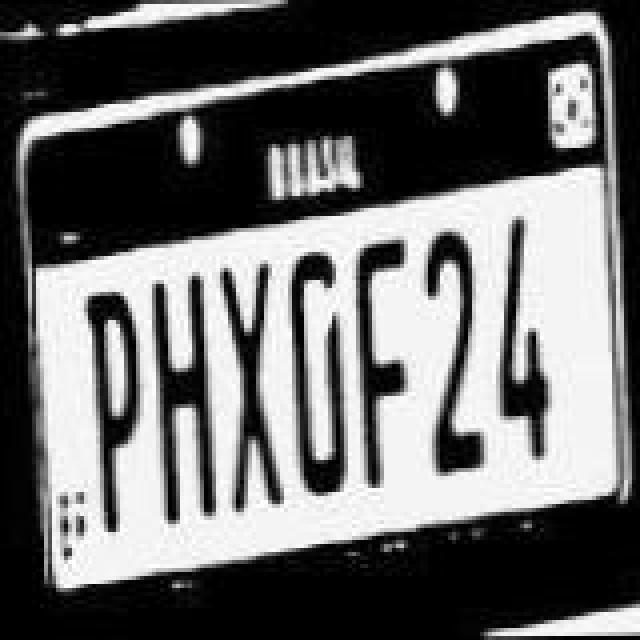2: (418, 222, 486, 478)
4: (488, 220, 560, 460)
D: (290, 244, 358, 500)
F: (346, 242, 414, 494)
H: (148, 272, 224, 524)
P: (76, 290, 144, 534)
X: (216, 260, 292, 504)
